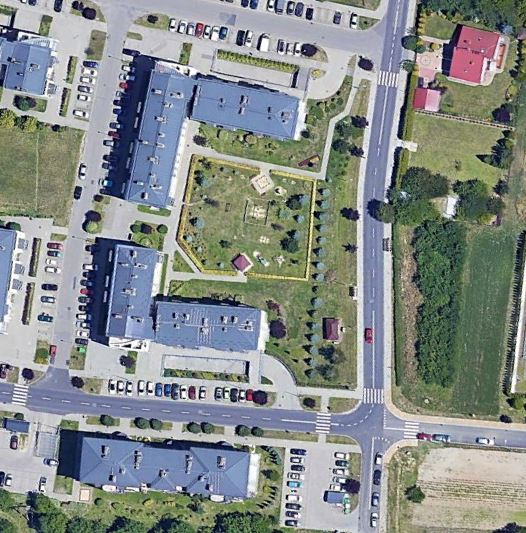block of flats: (116, 66, 301, 208), (98, 238, 272, 356), (77, 435, 264, 500), (1, 37, 61, 99)
family house: (443, 20, 510, 90)
